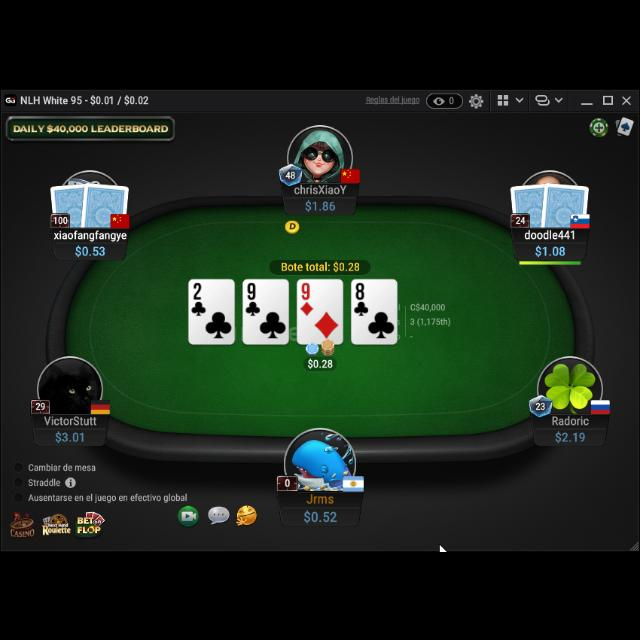2c: (190, 280, 208, 316)
8c: (352, 279, 370, 317)
9c: (244, 280, 262, 316)
9d: (298, 279, 314, 315)
bet_text: (307, 355, 333, 367)
card_back: (540, 178, 592, 228), (80, 178, 130, 228), (48, 178, 92, 228), (508, 180, 554, 227)
dealer: (284, 215, 300, 232)
pot_text: (280, 258, 362, 270)
stack_text: (302, 504, 338, 522), (534, 241, 566, 257), (554, 426, 586, 440), (304, 195, 336, 209), (74, 242, 106, 256), (55, 427, 85, 441)
